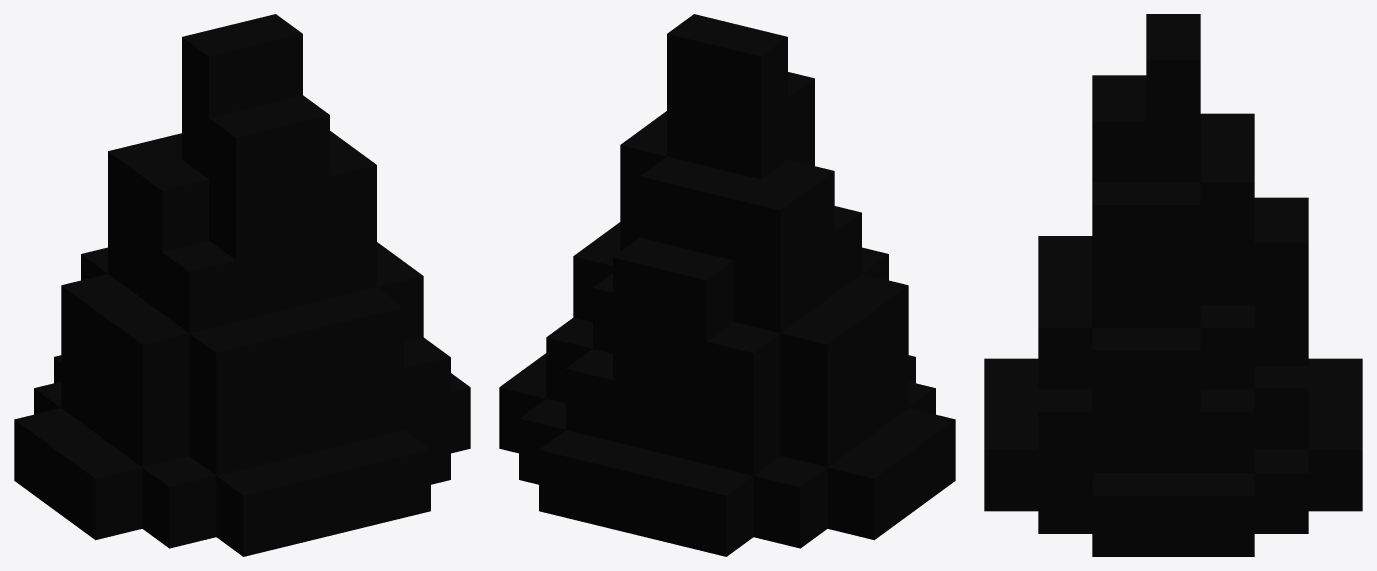
The model's file is Iceberg.obj.
3 renders of one model, left to right at view 1: azimuth 30°, elevation 25°; view 2: azimuth 150°, elevation 25°; view 3: azimuth 270°, elevation 25°, orthographic.
Parts seen in each view (by area): view 1: Iceberg; view 2: Iceberg; view 3: Iceberg.
Boxes of the visible parts, x1,y1,x2,y2 form: Iceberg: (14, 14, 470, 556); Iceberg: (499, 14, 955, 556); Iceberg: (984, 14, 1362, 556).
Size of the model in its own units: 16 by 17.5 by 14.
